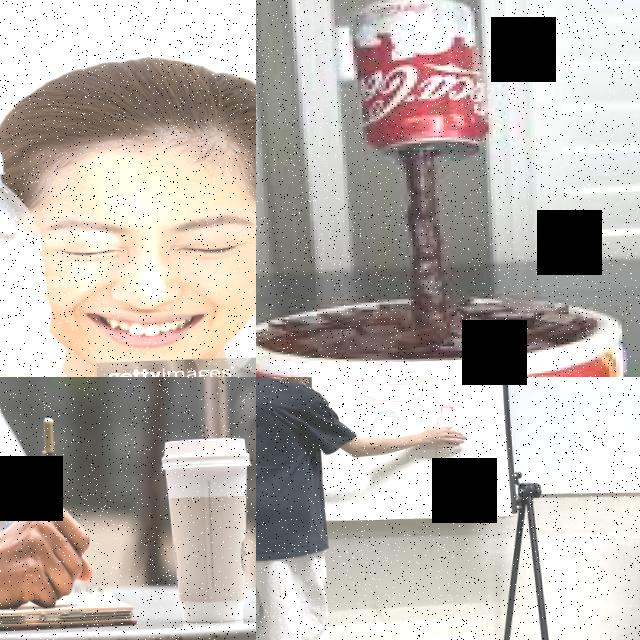bottle: (0, 150, 63, 377)
can: (344, 0, 494, 167)
cup: (159, 434, 256, 625)
